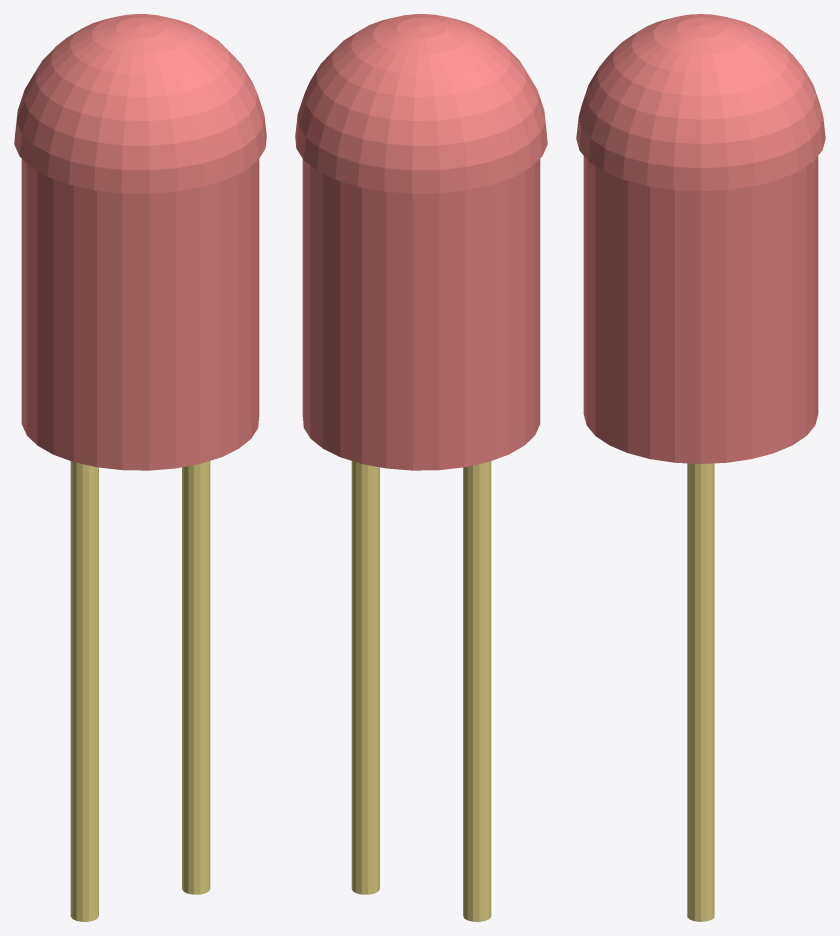
File: led.glb
The picture shows the model from 3 angles, left to right: view 1: azimuth 30°, elevation 25°; view 2: azimuth 150°, elevation 25°; view 3: azimuth 270°, elevation 25°; orthographic projection.
Visible parts, largest first — view 1: led-5mm_mesh; view 2: led-5mm_mesh; view 3: led-5mm_mesh.
Part boxes in pixels (left/top/right/bottom): led-5mm_mesh: left=14, top=14, right=266, bottom=921; led-5mm_mesh: left=295, top=14, right=547, bottom=921; led-5mm_mesh: left=576, top=14, right=825, bottom=921.
Bounding box in the file's own units: 5 × 19.1 × 5.
